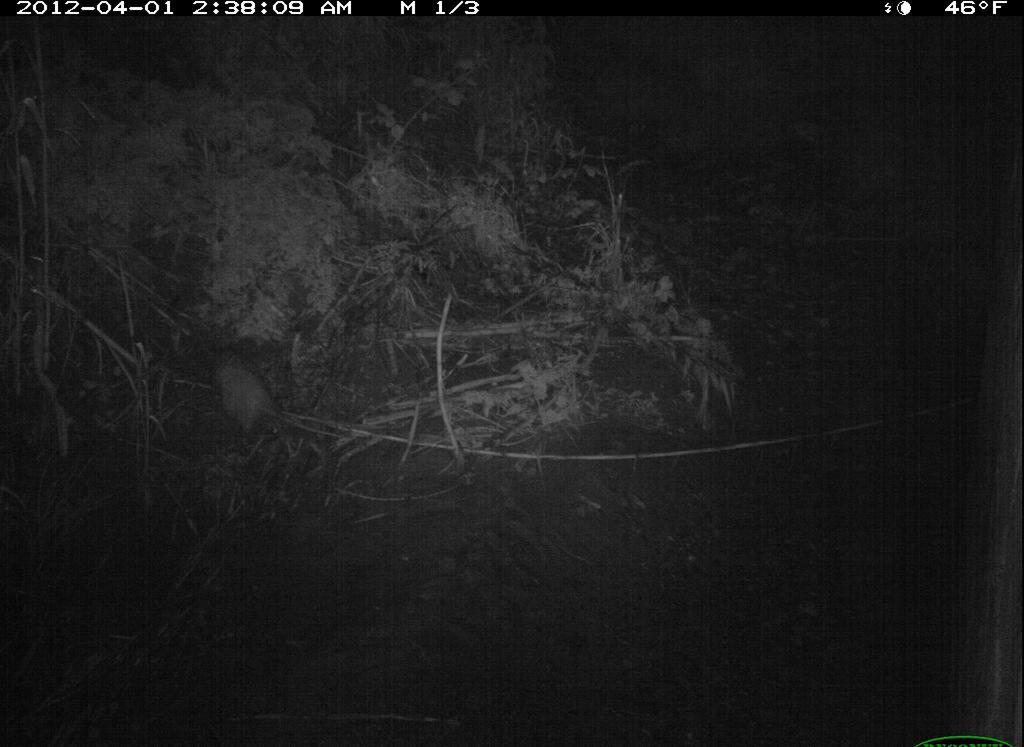opossum: (194, 318, 292, 452)
